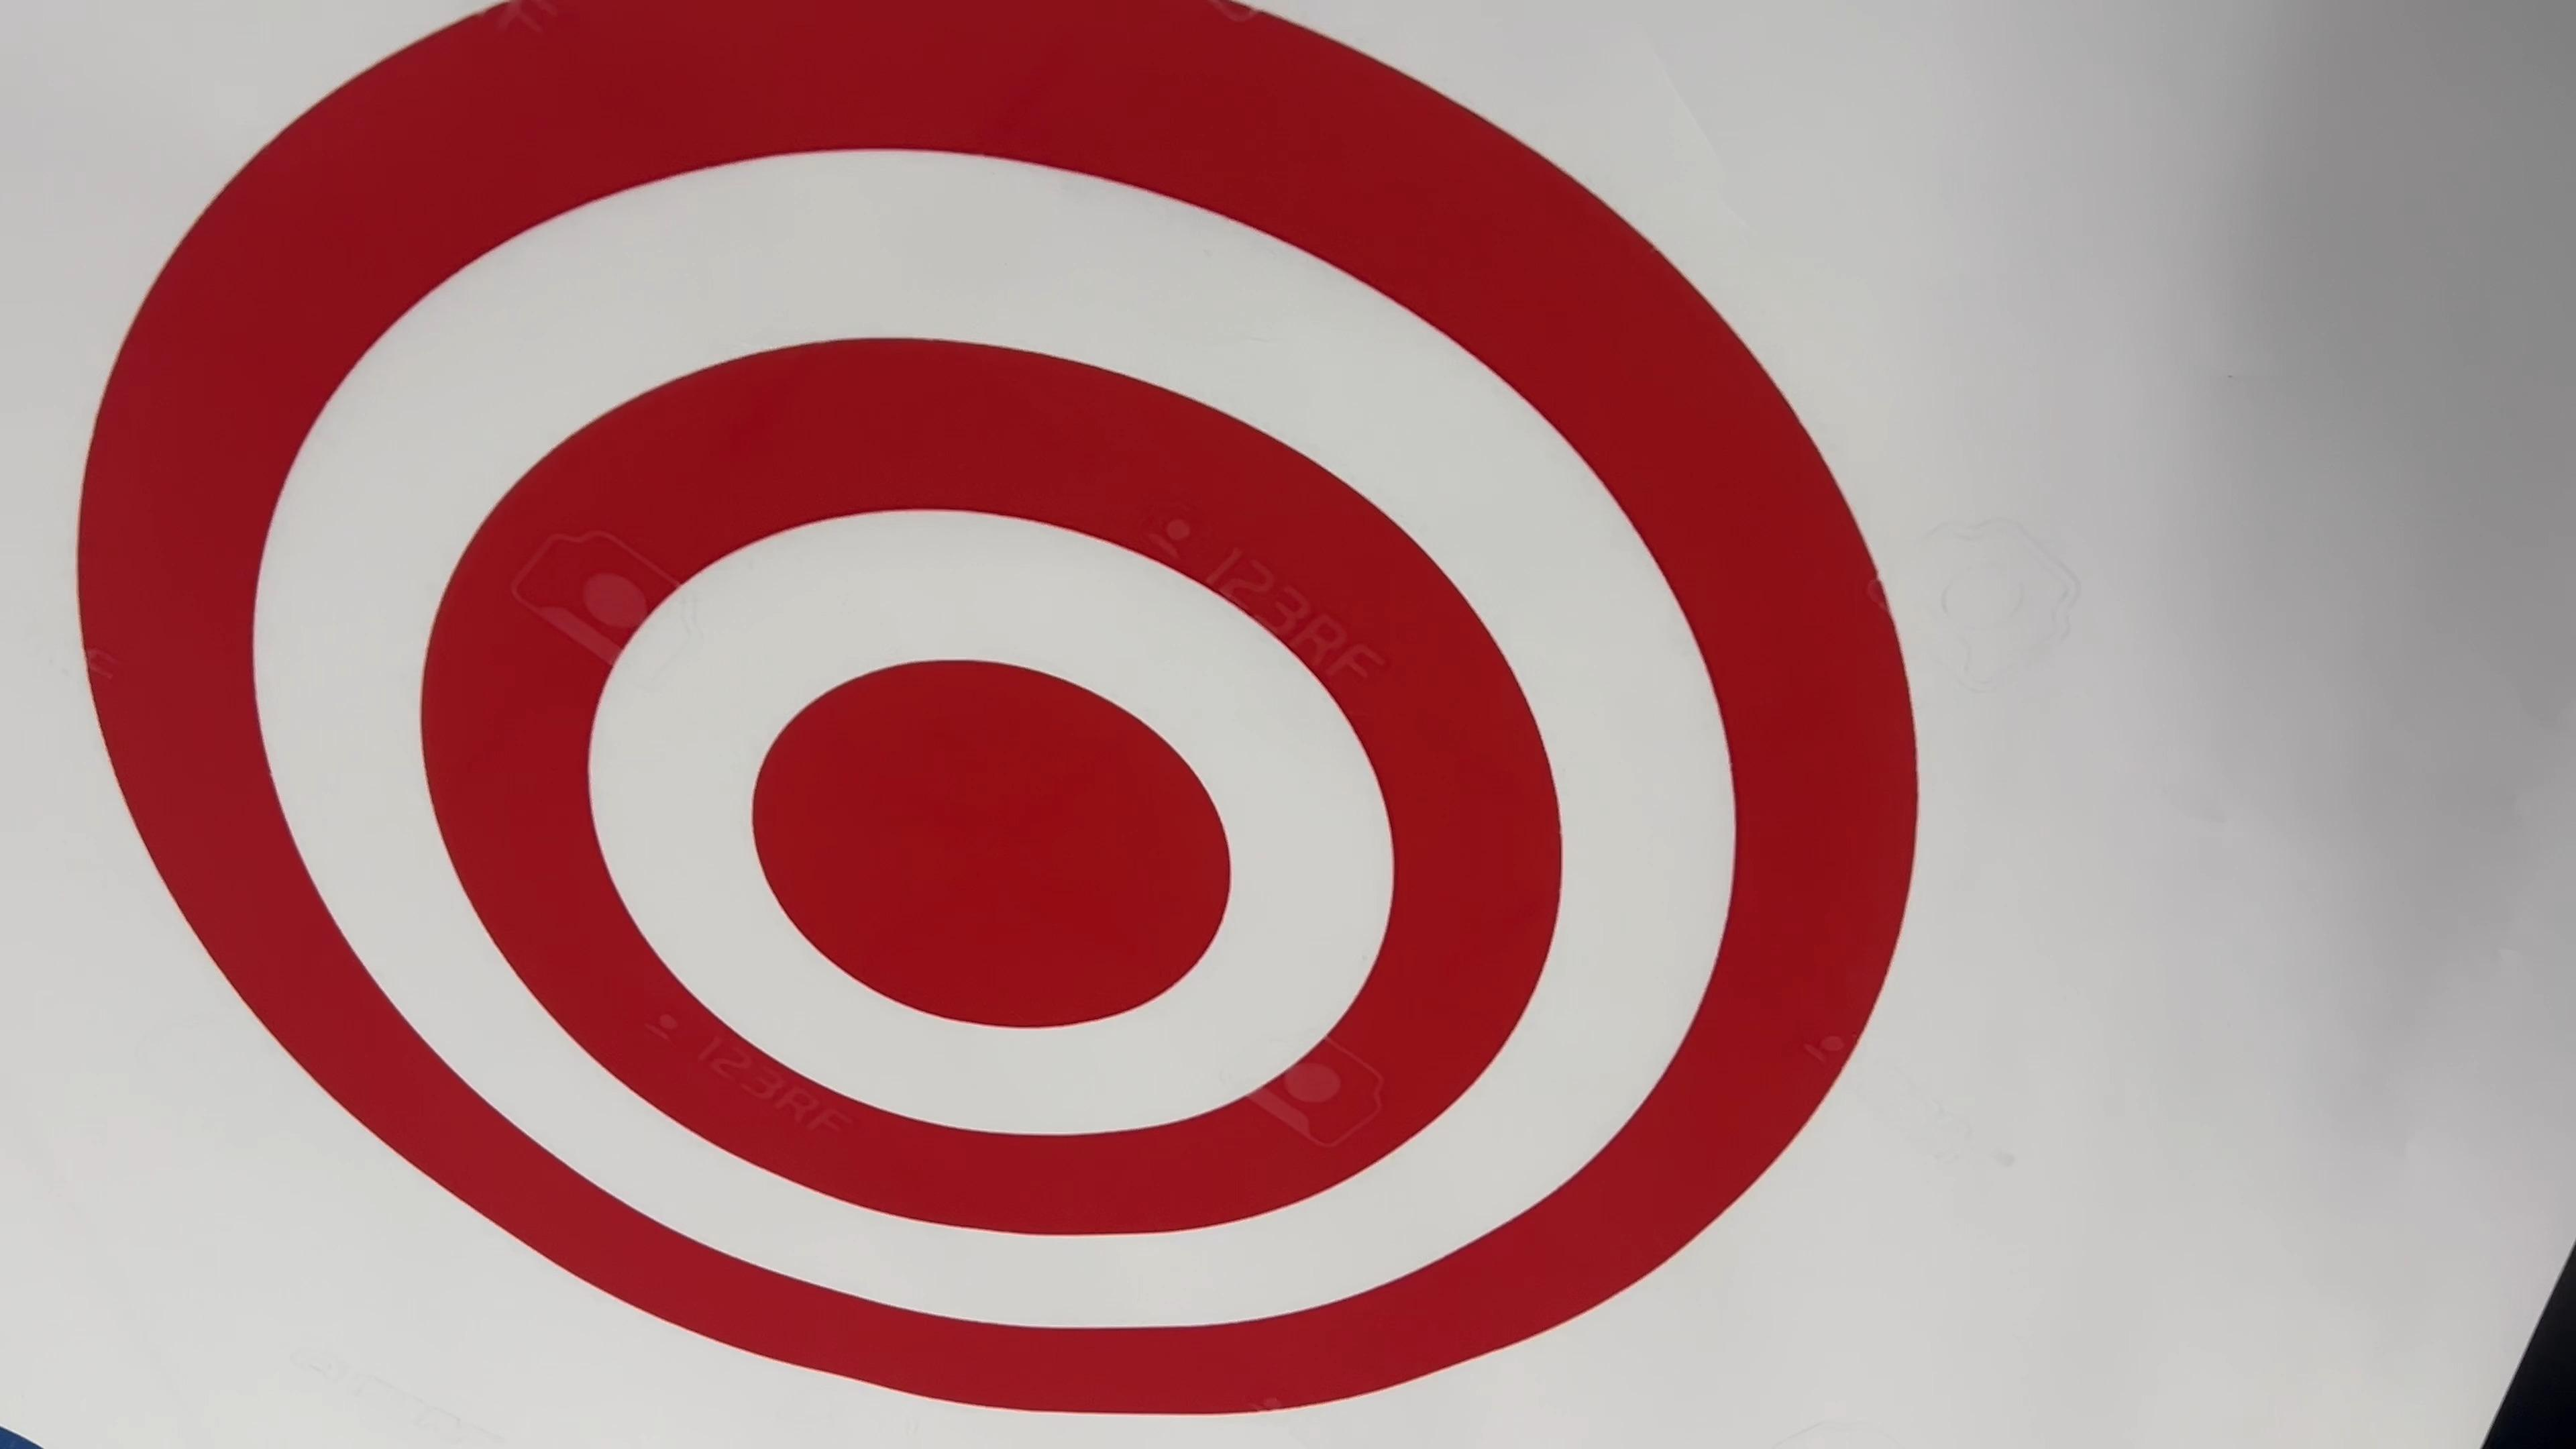target_red: (35, 2, 1953, 1401)
